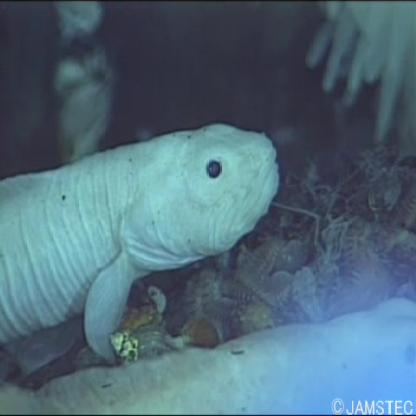Bio: (1, 118, 283, 365)
